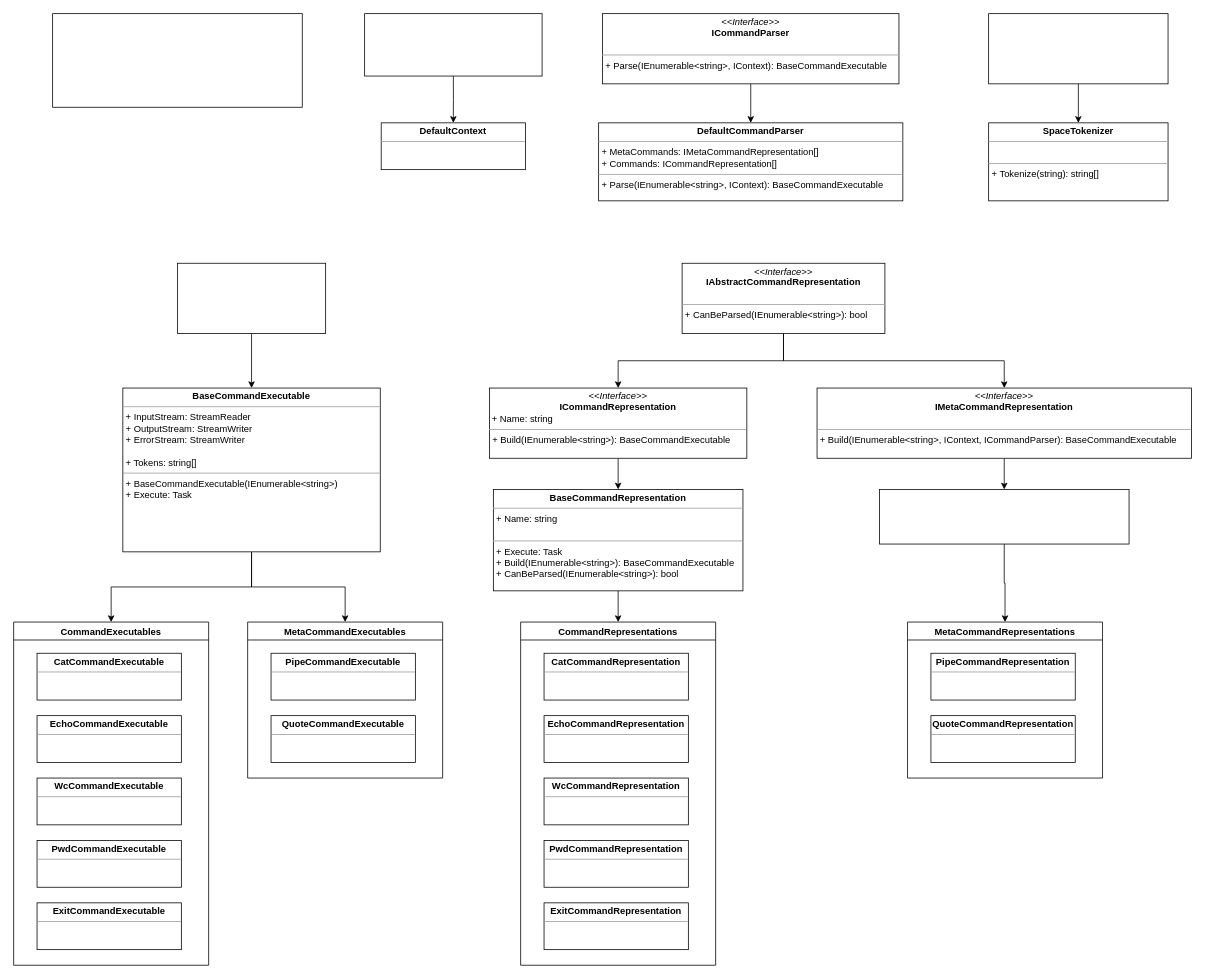
The diagram is 1205 pixels wide and 979 high, and some of its shapes have lost their labels. Each missing label, with the centre of its shape:
"<<Interface>> ICommandExecutable + Execute(): Task" belongs at point 251,297.
"<<Interface>> IContext + Variables : IDictionary<string, string>" belongs at point 453,44.
"<<Interface>> ITokenizer + Tokenize(string): string[]" belongs at point 1078,48.
"BaseMetaCommandRepresentation" belongs at point 1004,516.
"Interpretator + Context: IContext + Parser: ICommandParser + Run: Task" belongs at point 177,60.
